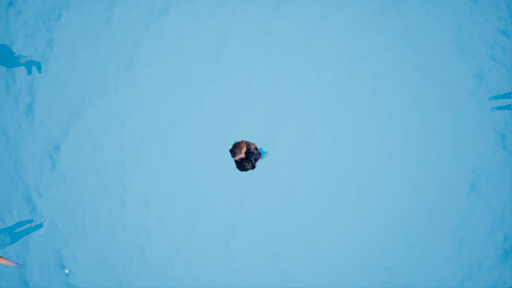person: (225, 140, 271, 173)
